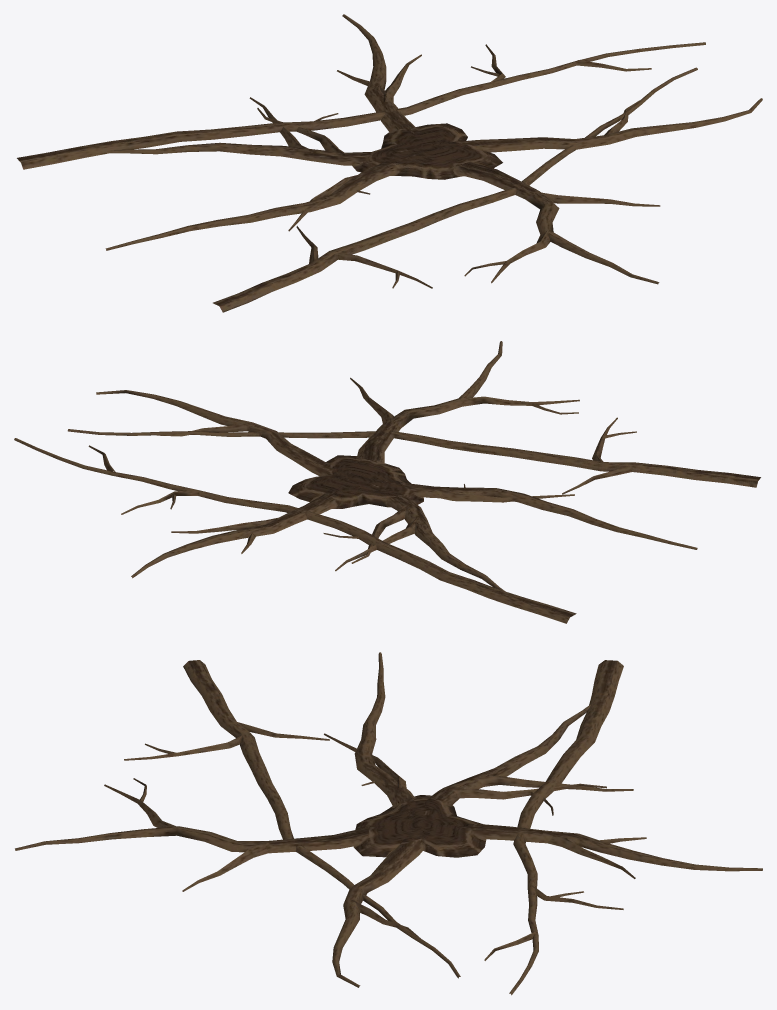
File: decal_roots.glb
The picture shows the model from 3 angles, top to bottom: view 1: azimuth 30°, elevation 25°; view 2: azimuth 150°, elevation 25°; view 3: azimuth 270°, elevation 25°; orthographic projection. The views are drawn at different scales.
Parts seen in each view (by area): view 1: decal_roots; view 2: decal_roots; view 3: decal_roots.
Boxes of the visible parts, bbox=[...] form: decal_roots: bbox=[17, 14, 762, 312]; decal_roots: bbox=[14, 341, 760, 623]; decal_roots: bbox=[15, 652, 762, 995].
Bounding box in the file's own units: 1.78 × 0.017 × 1.65.
1 material, 1 textured.
